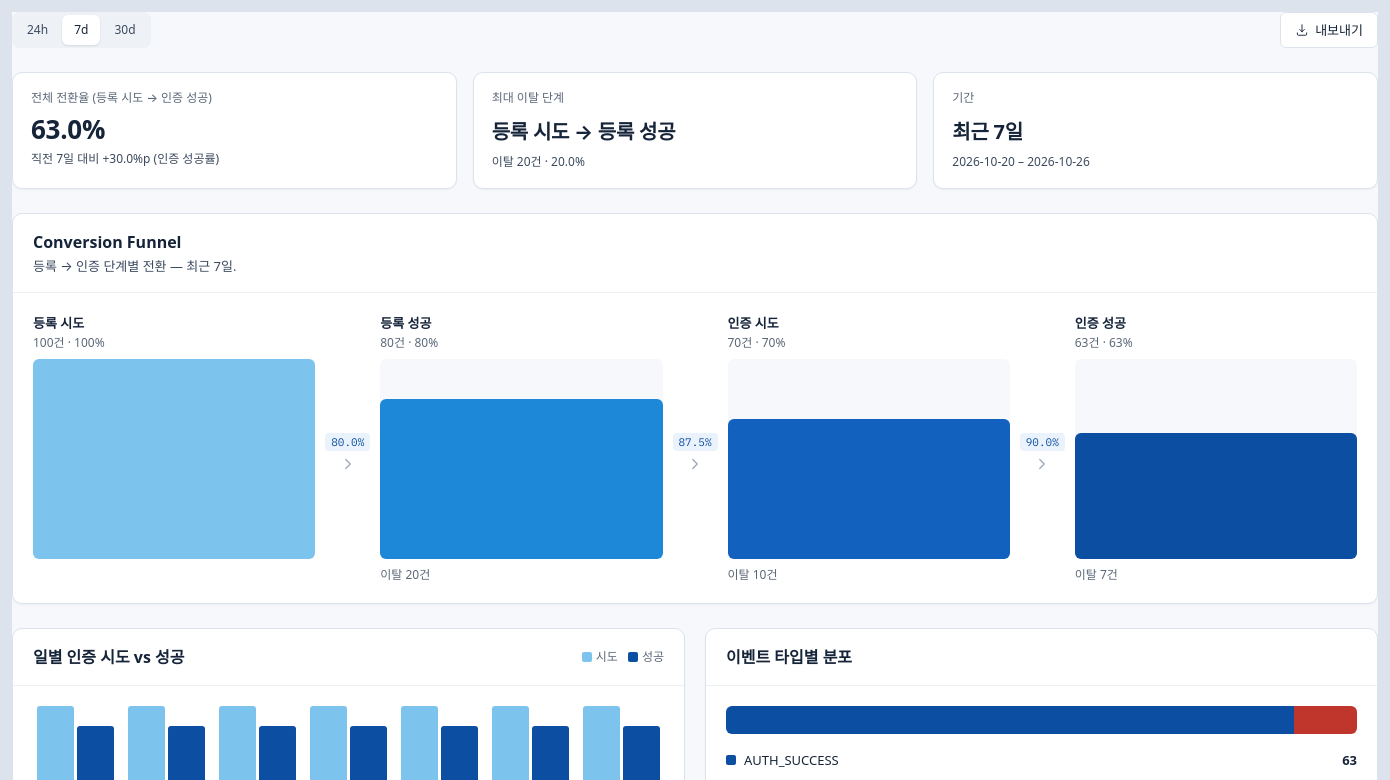
Test: FunnelTab V2 › 24h·30d 에서는 직전 기간 대비를 계산·표시하지 않는다
This screenshot has width=1390, height=780.
Expected: the text "직전 7일 대비 +30.0%p (인증 성공률)" is shown, [31, 150, 219, 167]
Step 1. Click the button "24h" → coordinates (38, 30), box [15, 15, 60, 45]
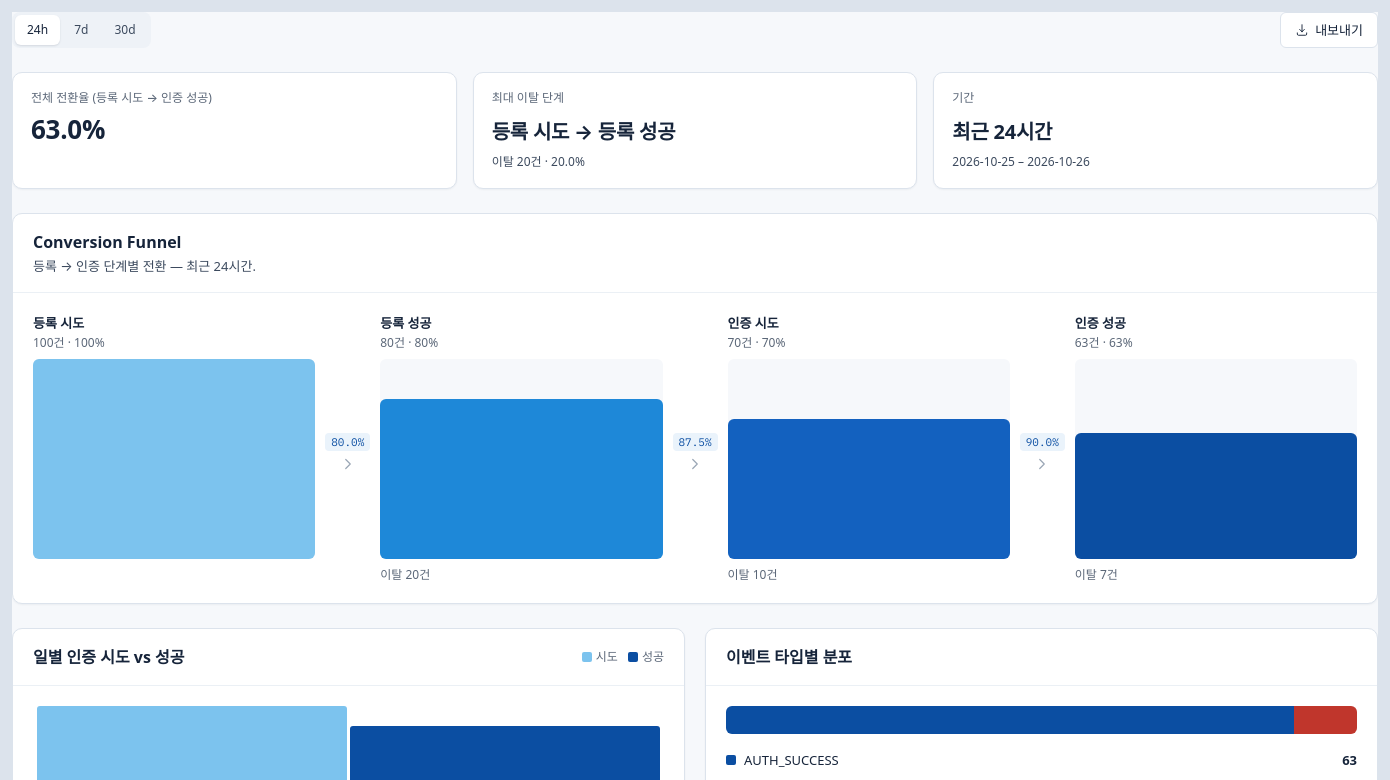
Expected: the text "최근 24시간" is shown, [952, 118, 1052, 145]
Expected: the text "직전 7일 대비" is gone
Step 2. Click the button "30d" → coordinates (125, 30), box [102, 15, 148, 45]
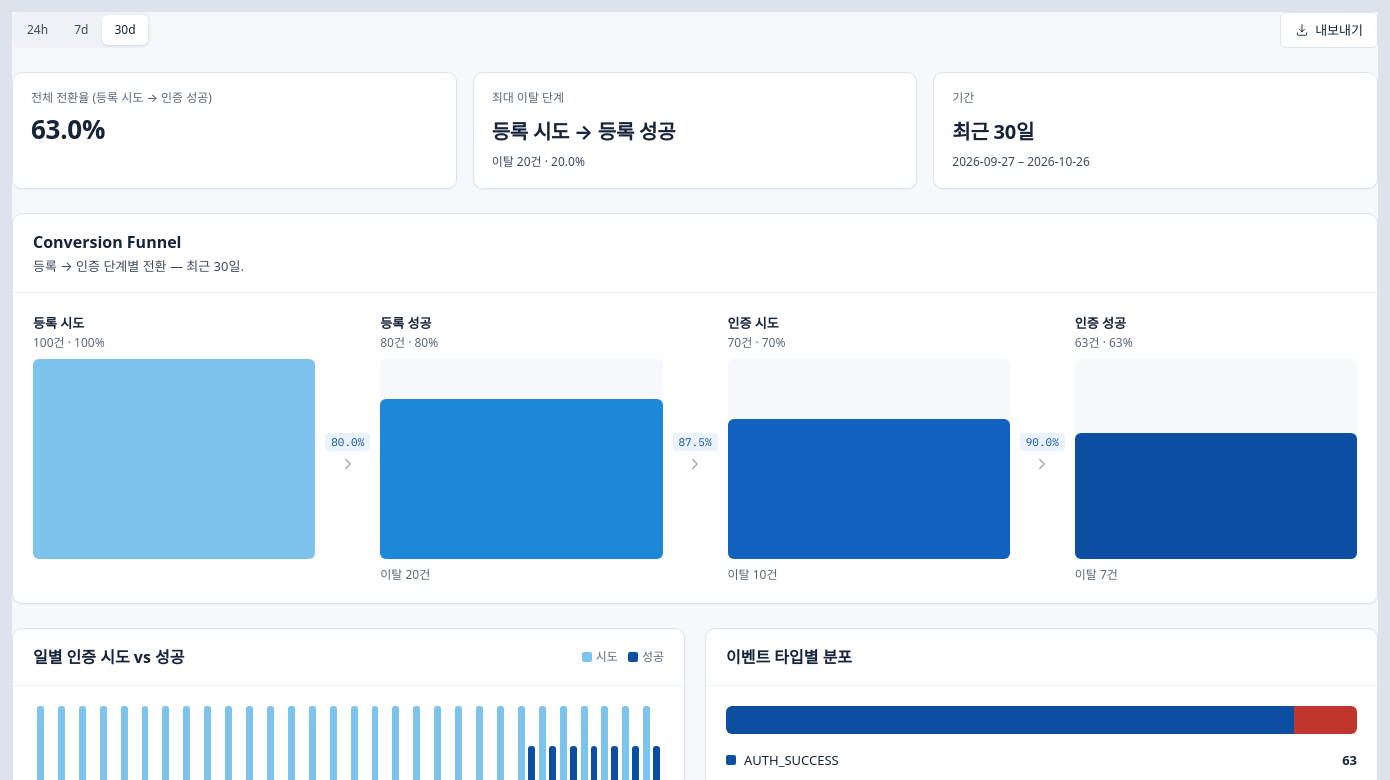
Expected: the text "직전 7일 대비" is not shown
Expected: the text "최근 30일" is shown, [952, 118, 1034, 145]
